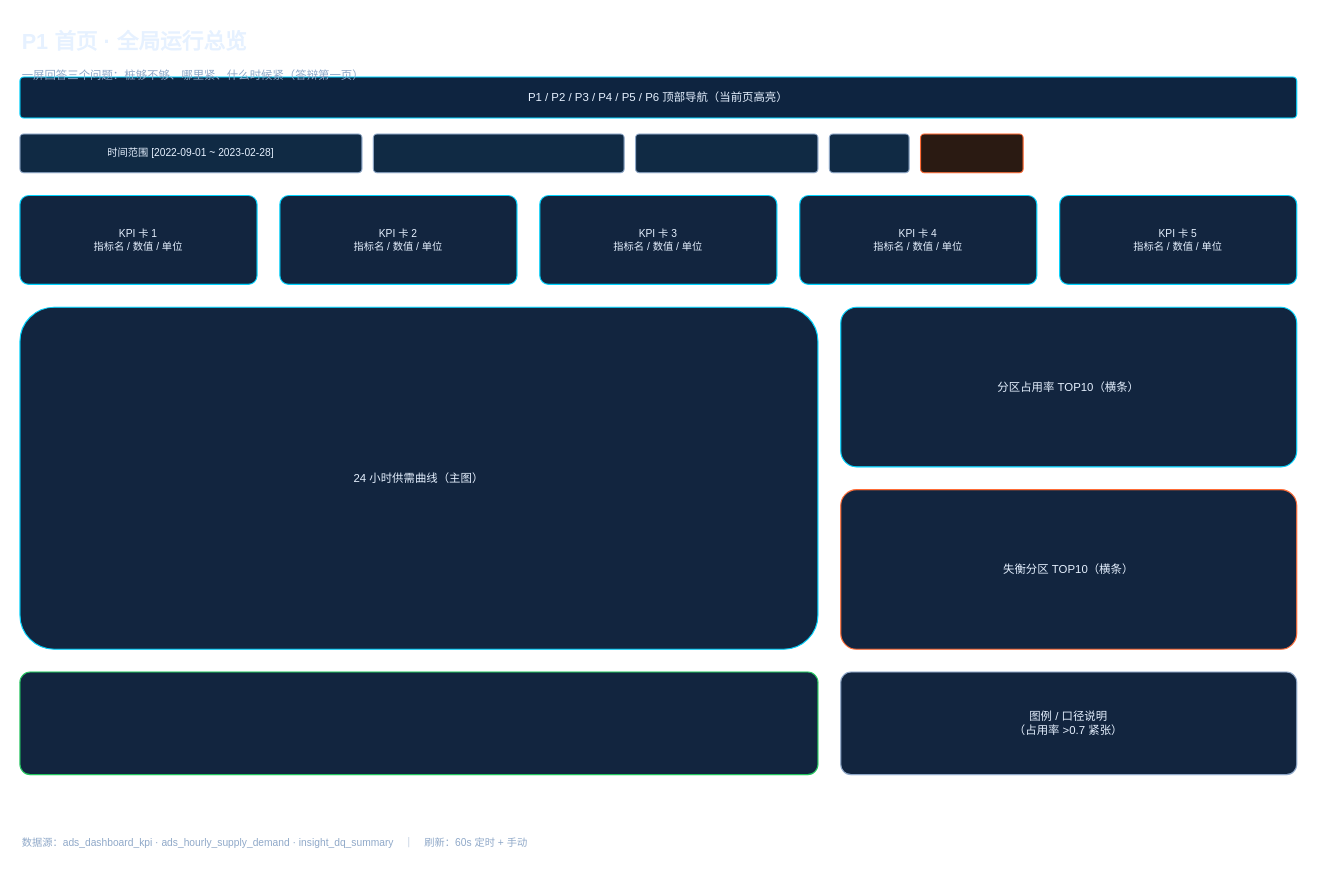
This 1340x885 diagram has some shape labels left out. The centre of each missing label's shape, as x and y in pixels:
"分区 [全部 / 多选]" belongs at (x=498, y=153).
"导出 CSV" belongs at (x=971, y=153).
"小时 [0—23]" belongs at (x=726, y=153).
"数据质量 8 项体检（迷你条）" belongs at (x=418, y=723).
"重置" belongs at (x=868, y=153).
